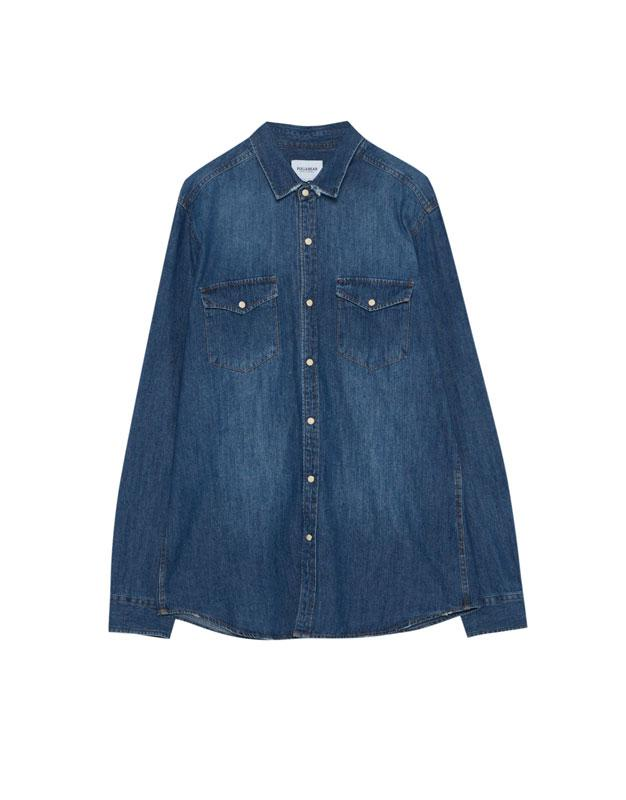teeshirt: (103, 112, 545, 652)
